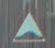Speed Breaker ahead: (9, 5, 47, 47)
